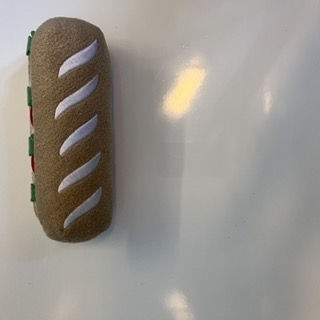sandwich: (26, 18, 114, 243)
